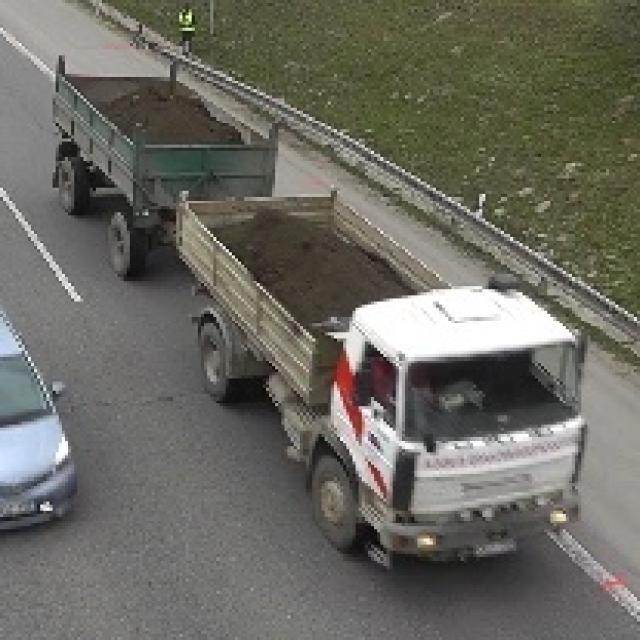truck: (49, 31, 584, 575)
